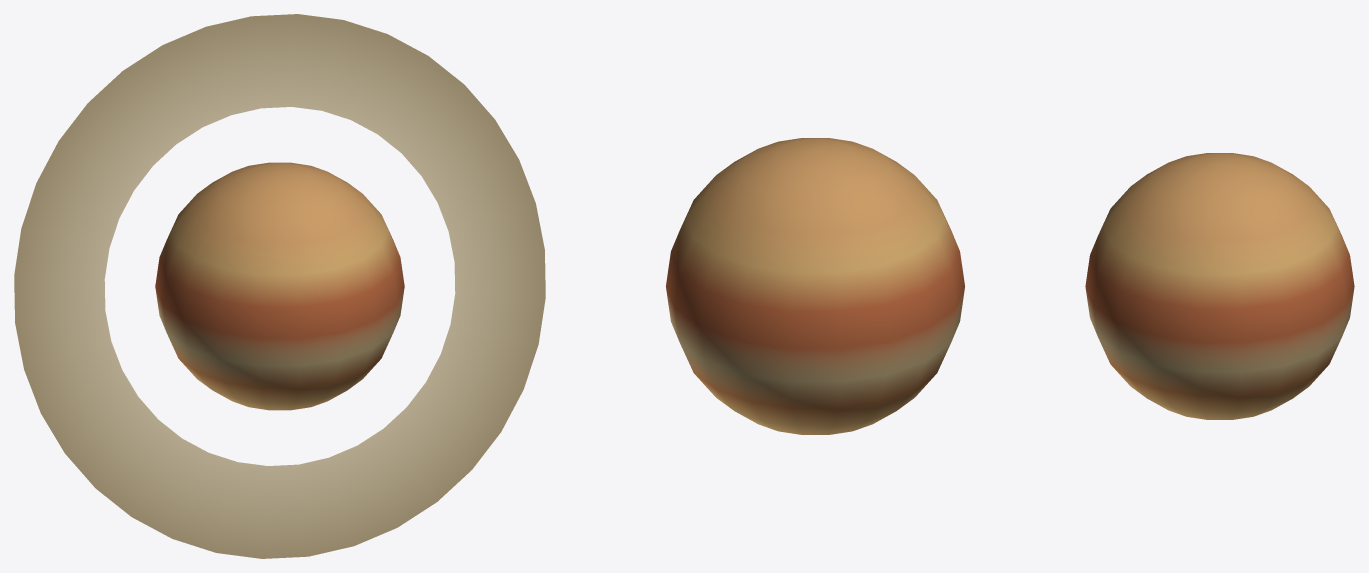
Rendered from deco_planet_ring_lite.glb.
3 views of the same model, side by side, from view 1: azimuth 30°, elevation 25°; view 2: azimuth 150°, elevation 25°; view 3: azimuth 270°, elevation 25° (orthographic). The views are drawn at different scales.
Parts seen in each view (by area): view 1: planet; view 2: planet; view 3: planet.
Part boxes in pixels (<box>): planet: <box>14,14,545,558</box>; planet: <box>666,138,964,434</box>; planet: <box>1085,153,1354,419</box>.
Bounding box in the file's own units: 4.25 × 4.19 × 2.
